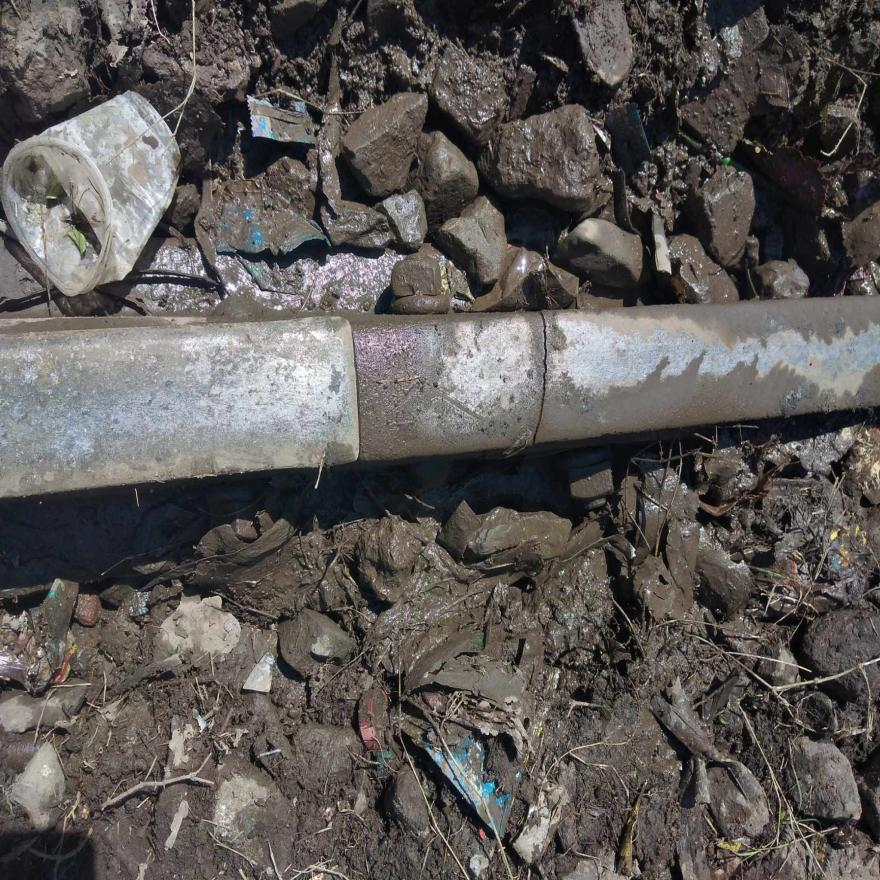railway-gap: (486, 290, 603, 464), (306, 312, 409, 474)
